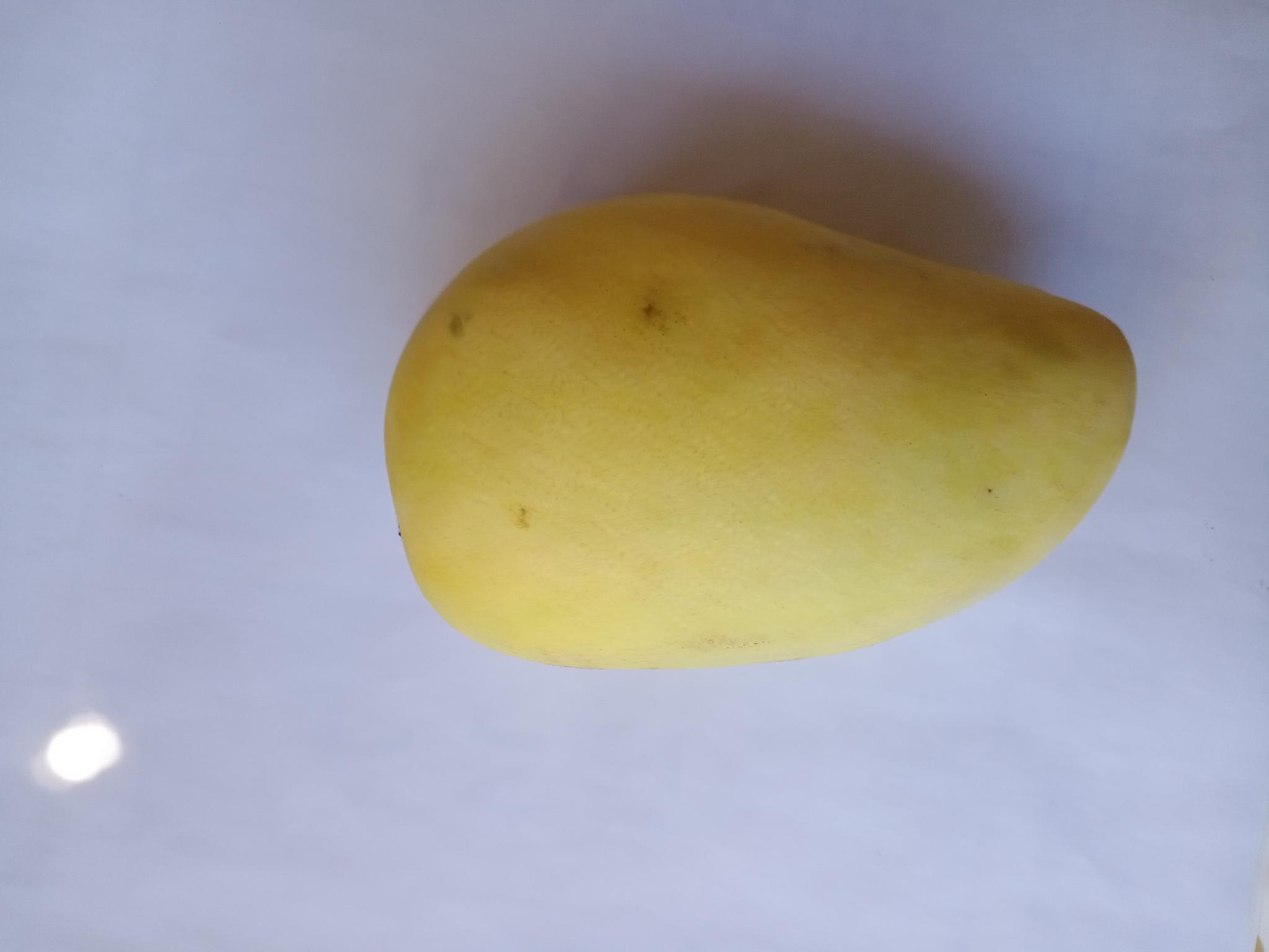Mango Ripe: (311, 176, 1179, 697)
